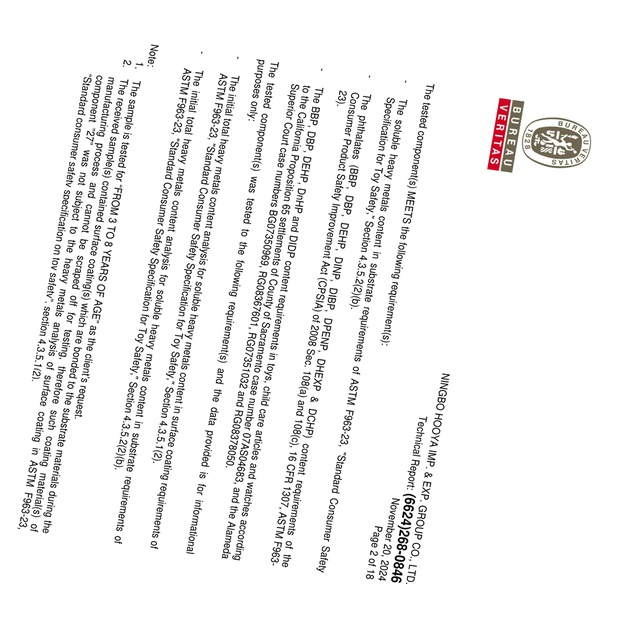bureau_veritas: (482, 93, 592, 183)
